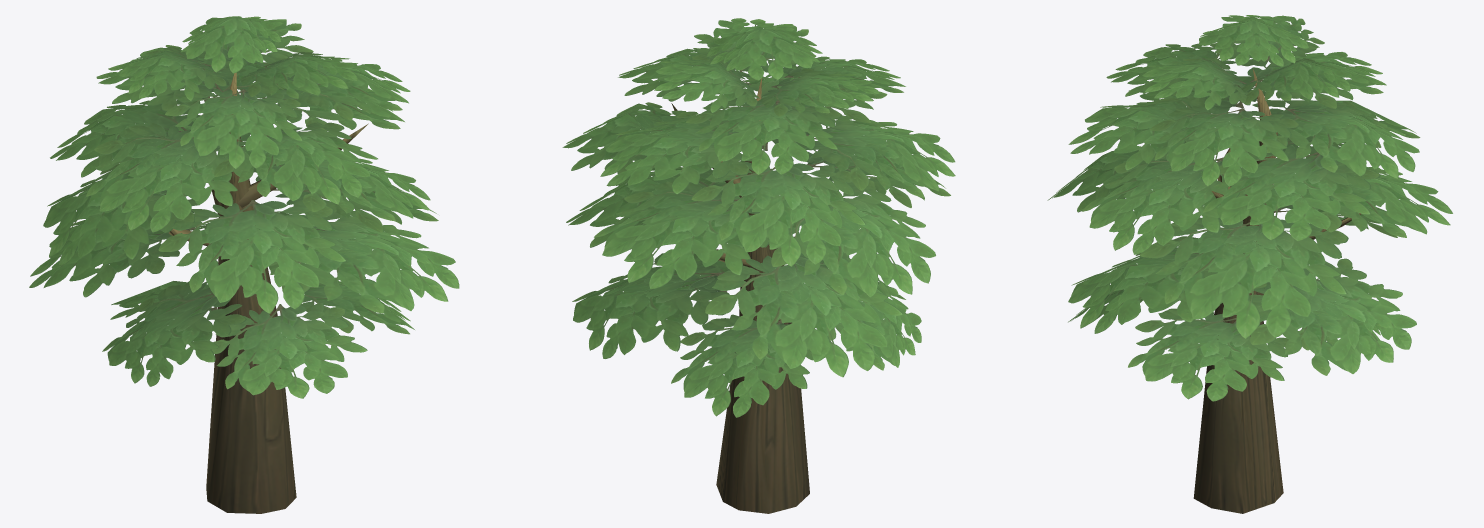
Rendered from main_map_tree_08b.fbx.
The picture shows the model from 3 angles, left to right: view 1: azimuth 30°, elevation 25°; view 2: azimuth 150°, elevation 25°; view 3: azimuth 270°, elevation 25°; orthographic projection.
Parts seen in each view (by area): view 1: main_map_tree_08b; view 2: main_map_tree_08b; view 3: main_map_tree_08b.
Boxes of the visible parts, x1=… form: main_map_tree_08b: x1=29, y1=16, x2=459, y2=513; main_map_tree_08b: x1=562, y1=18, x2=955, y2=513; main_map_tree_08b: x1=1047, y1=15, x2=1452, y2=513.
Size of the model in its own units: 143 by 166 by 145.
